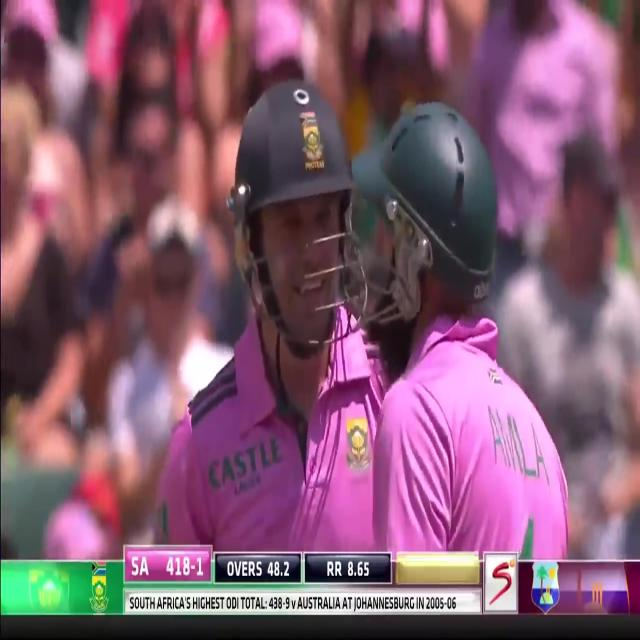Ball: (136, 78, 377, 555), (340, 109, 569, 559)
